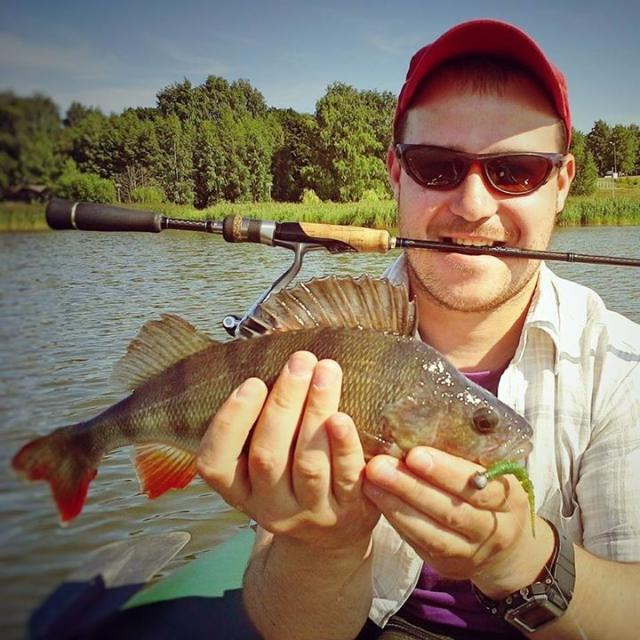adult: (201, 20, 640, 639)
